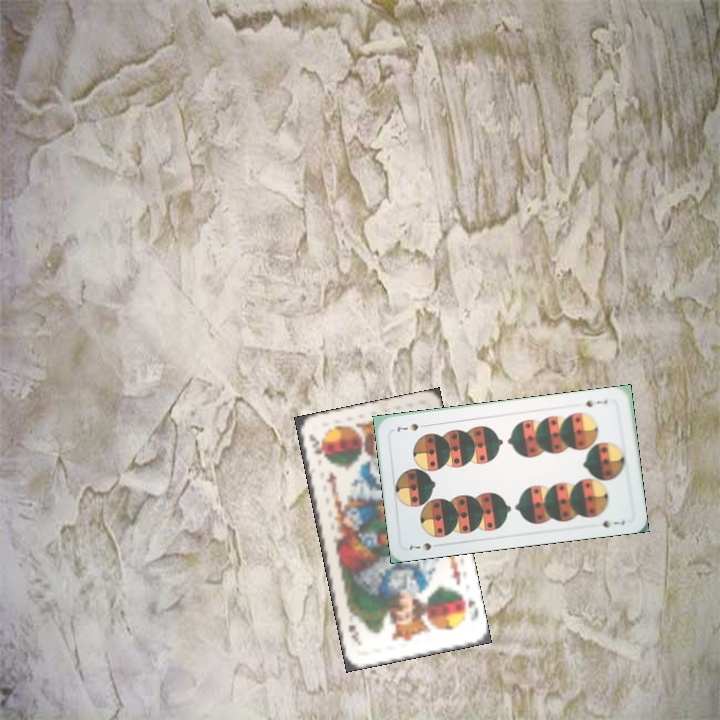S7: (405, 538, 444, 553), (582, 396, 610, 410)
SK: (305, 429, 325, 456), (463, 595, 480, 624)
